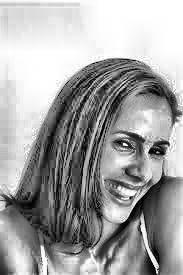happy: (90, 73, 170, 247)
